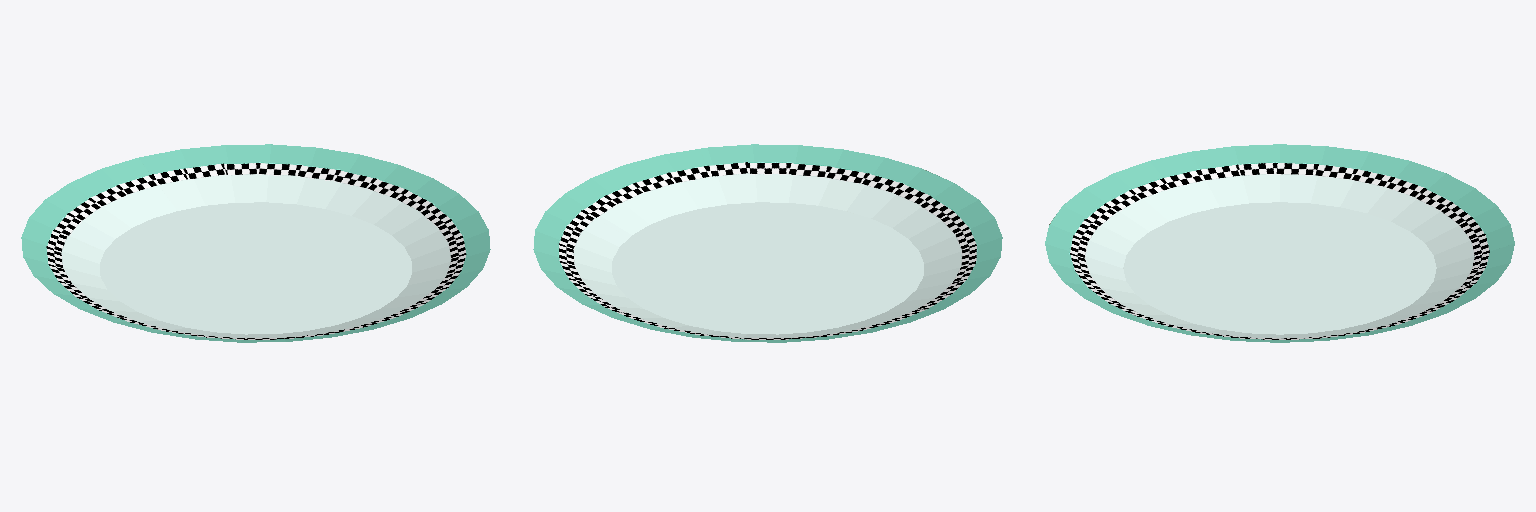
The picture shows the model from 3 angles: view 1: azimuth 30°, elevation 25°; view 2: azimuth 150°, elevation 25°; view 3: azimuth 270°, elevation 25°; orthographic projection.
Visible parts, largest first — view 1: Cone; view 2: Cone; view 3: Cone.
Part boxes in pixels (bbox=[...]): Cone: bbox=[21, 144, 490, 342]; Cone: bbox=[533, 144, 1002, 342]; Cone: bbox=[1045, 144, 1514, 342].
Size of the model in its own units: 0.6 by 0.035 by 0.6.
1 materials, 1 textured.